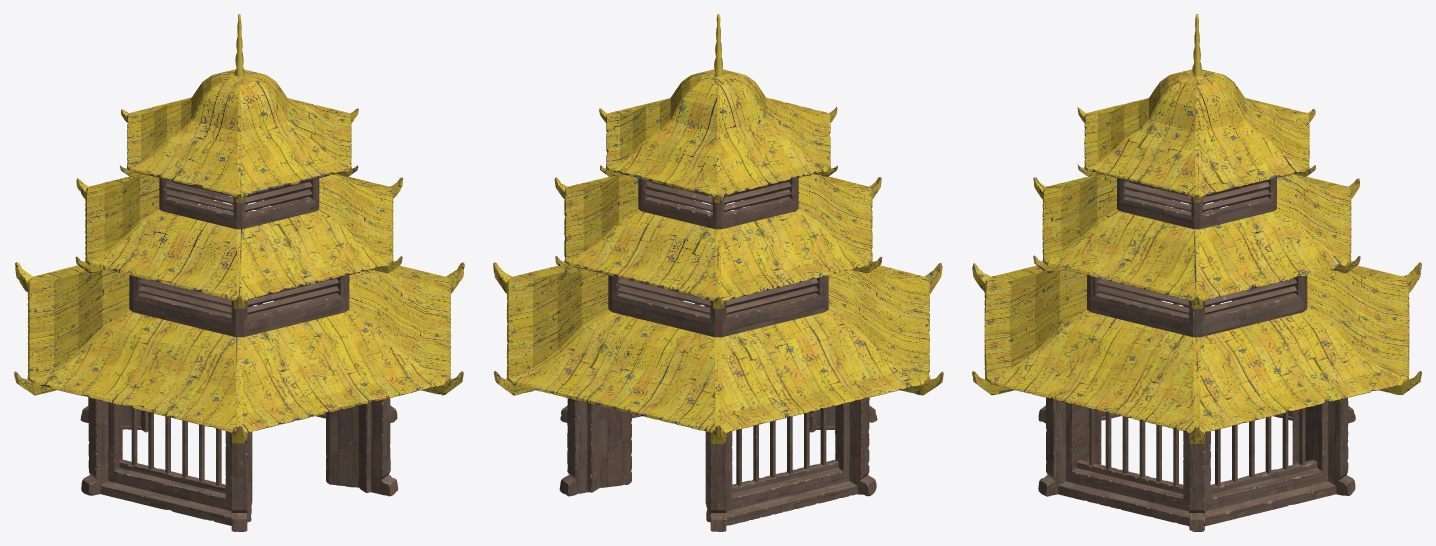
The model's file is temple6.glb.
3 views of the same model, side by side, from view 1: azimuth 30°, elevation 25°; view 2: azimuth 150°, elevation 25°; view 3: azimuth 270°, elevation 25° (orthographic).
Visible parts, largest first — view 1: Roof, Outside, Interior, WoodScraped; view 2: Roof, Outside, Interior, WoodScraped; view 3: Roof, Outside, Interior, WoodScraped.
Part boxes in pixels (<box>): Roof: <box>14,69,464,443</box>; Outside: <box>80,177,398,531</box>; Interior: <box>114,181,335,485</box>; WoodScraped: <box>15,104,464,531</box>; Roof: <box>493,69,943,443</box>; Outside: <box>559,178,877,531</box>; Interior: <box>622,181,843,485</box>; WoodScraped: <box>493,108,942,531</box>; Roof: <box>972,69,1421,443</box>; Outside: <box>1038,177,1355,531</box>; Interior: <box>1072,181,1321,486</box>; WoodScraped: <box>972,108,1421,531</box>.
Bounding box in the file's own units: 18.43 × 17.32 × 15.97.
Materials: 6 (5 with a texture image).
